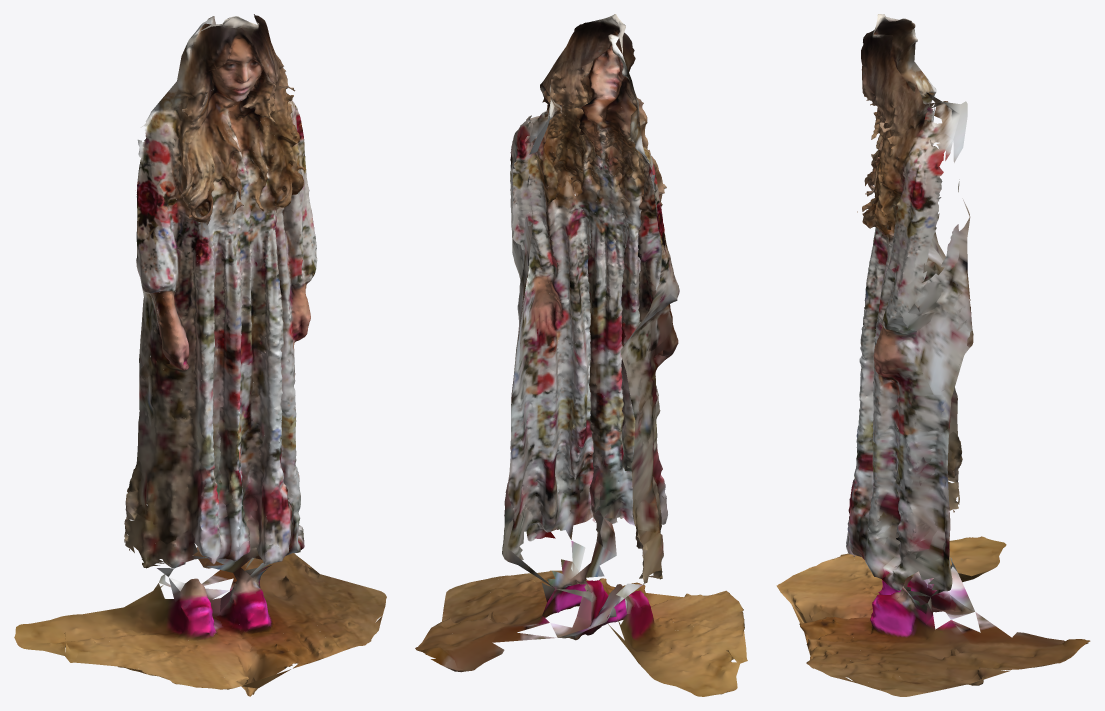
File: ferdress2.glb
3 renders of one model, left to right at view 1: azimuth 30°, elevation 25°; view 2: azimuth 150°, elevation 25°; view 3: azimuth 270°, elevation 25°, orthographic. The views are drawn at different scales.
Visible parts, largest first — view 1: mesh; view 2: mesh; view 3: mesh.
Part boxes in pixels (x1,y1,x2,y2): mesh: (14,14,386,696); mesh: (415,14,747,696); mesh: (776,14,1090,696).
Size of the model in its own units: 0.9674 by 1.85 by 0.819.
Materials: 1 (1 with a texture image).
